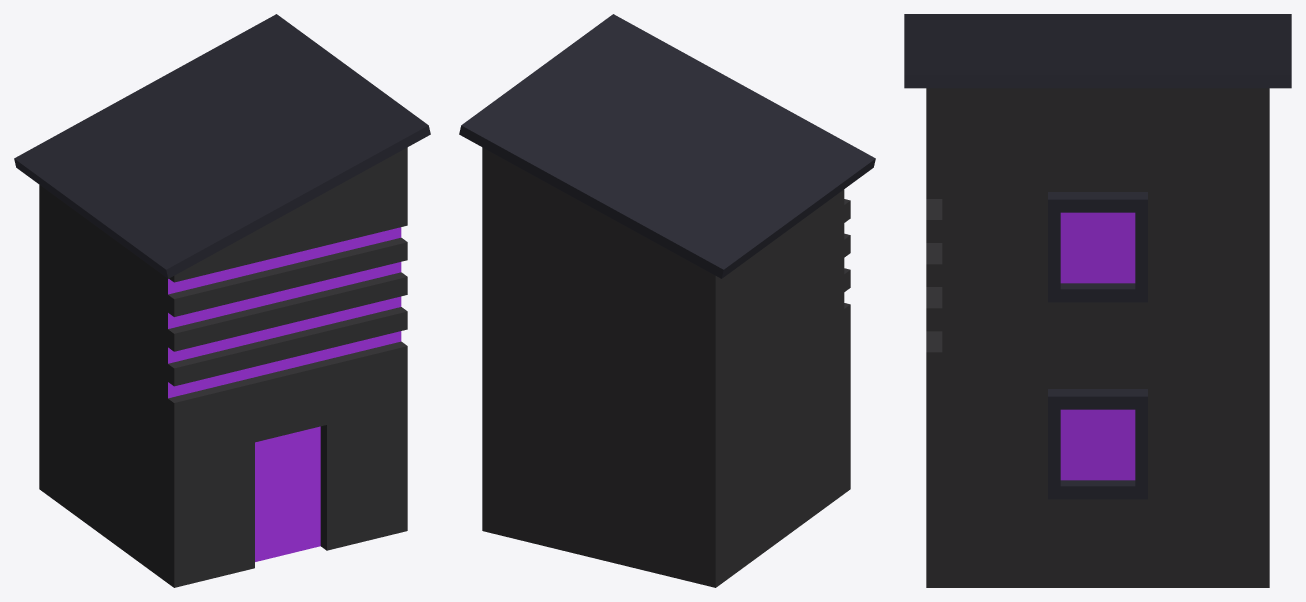
The model's file is NC_Sci-fi06.fbx.
3 views of the same model, side by side, from view 1: azimuth 30°, elevation 25°; view 2: azimuth 150°, elevation 25°; view 3: azimuth 270°, elevation 25° (orthographic). The views are drawn at different scales.
Parts seen in each view (by area): view 1: NC_Sci_fi06; view 2: NC_Sci_fi06; view 3: NC_Sci_fi06.
Boxes of the visible parts, x1,y1,x2,y2 form: NC_Sci_fi06: [14, 14, 430, 587]; NC_Sci_fi06: [459, 14, 875, 587]; NC_Sci_fi06: [904, 14, 1291, 587].
Bounding box in the file's own units: 193 × 285 × 192.
1 material, 1 textured.
